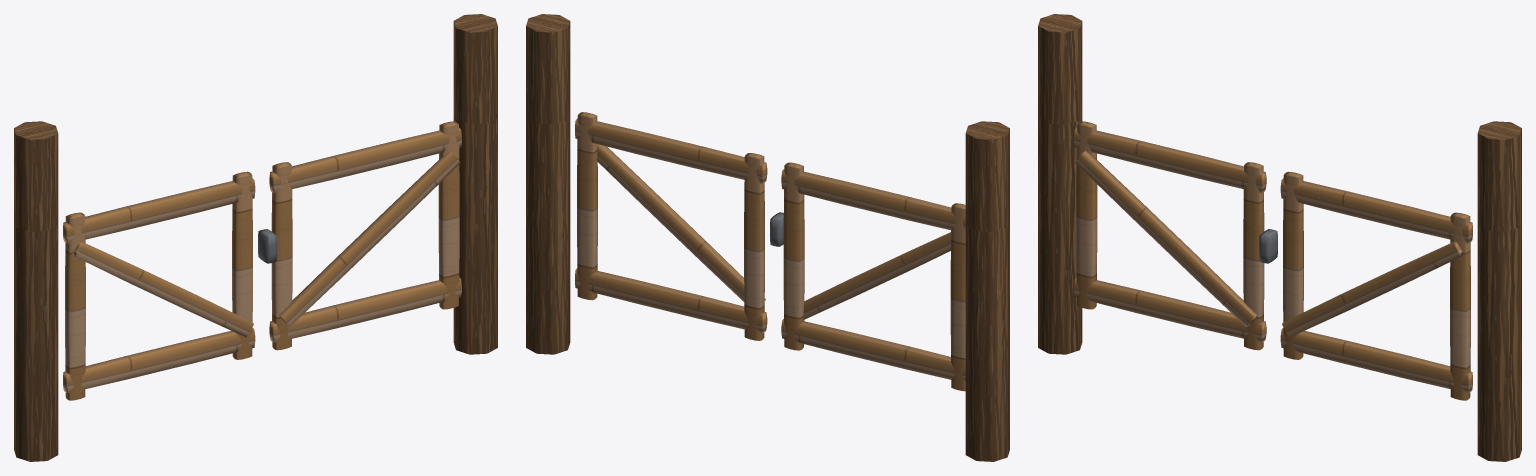
The model's file is fence_gate.glb.
3 views of the same model, side by side, from view 1: azimuth 30°, elevation 25°; view 2: azimuth 150°, elevation 25°; view 3: azimuth 330°, elevation 25° (orthographic).
Parts seen in each view (by area): view 1: fence_gate, fence_gate_log; view 2: fence_gate, fence_gate_log; view 3: fence_gate, fence_gate_log.
Boxes of the visible parts, bbox=[...] form: fence_gate: bbox=[63, 121, 461, 400]; fence_gate_log: bbox=[14, 14, 497, 461]; fence_gate: bbox=[575, 112, 965, 391]; fence_gate_log: bbox=[526, 14, 1009, 461]; fence_gate: bbox=[1074, 121, 1472, 400]; fence_gate_log: bbox=[1038, 14, 1521, 461].
Bounding box in the file's own units: 2.18 × 1.4 × 0.22.
Materials: 3 (2 with a texture image).
